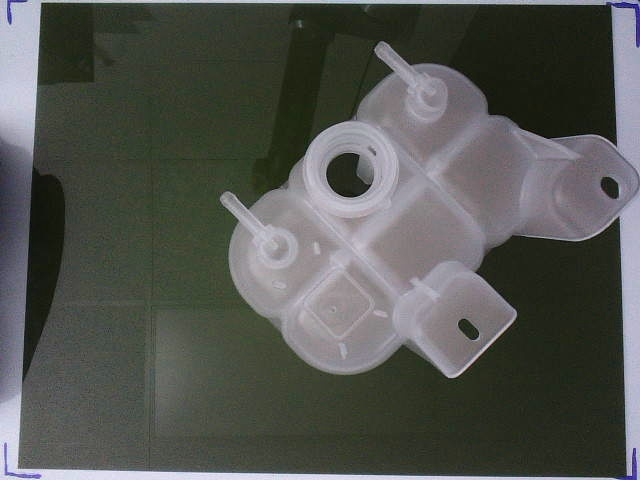reservoir_transparent_Top: (219, 41, 640, 378)
